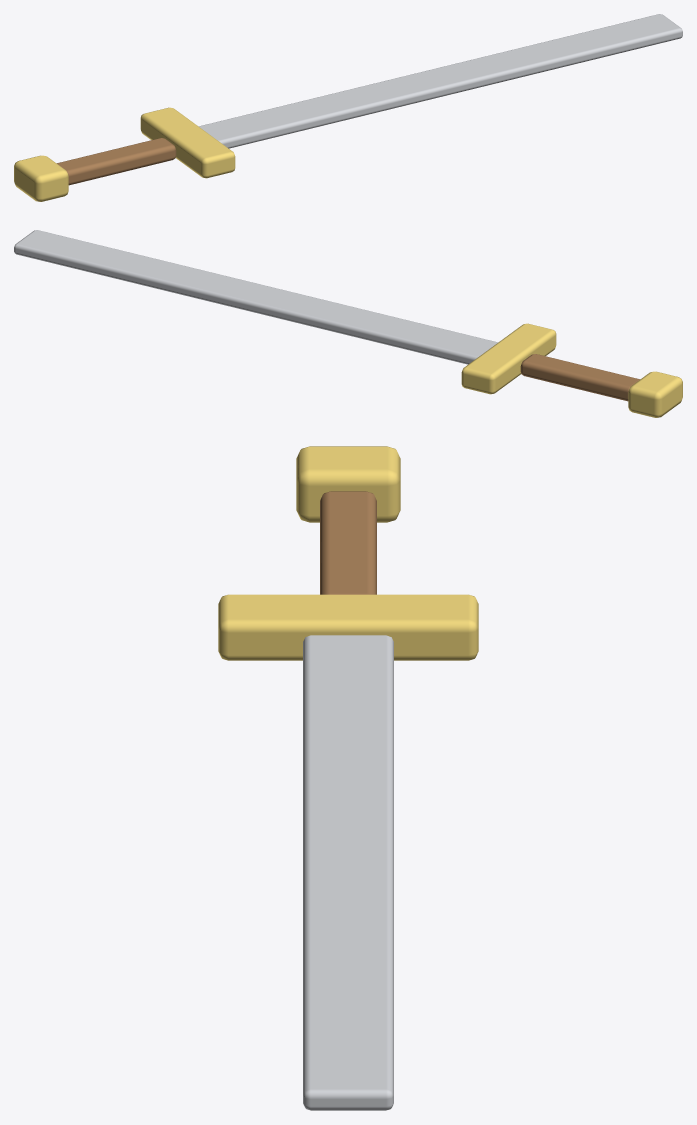
File: item_sword.glb
The picture shows the model from 3 angles, top to bottom: view 1: azimuth 30°, elevation 25°; view 2: azimuth 150°, elevation 25°; view 3: azimuth 270°, elevation 25°; orthographic projection. The views are drawn at different scales.
Visible parts, largest first — view 1: blade, guard, hilt, pommel; view 2: blade, guard, hilt, pommel; view 3: blade, guard, pommel, hilt.
Boxes of the visible parts, <box> form: blade: <box>199,14,682,148</box>; guard: <box>140,107,235,178</box>; hilt: <box>57,138,176,185</box>; pommel: <box>14,155,68,201</box>; blade: <box>14,230,497,364</box>; guard: <box>461,323,556,394</box>; hilt: <box>520,354,639,401</box>; pommel: <box>628,371,682,417</box>; blade: <box>303,635,393,1110</box>; guard: <box>218,594,478,660</box>; pommel: <box>296,446,400,522</box>; hilt: <box>320,491,376,594</box>.
Size of the model in its own units: 1.15 by 0.045 by 0.2.
